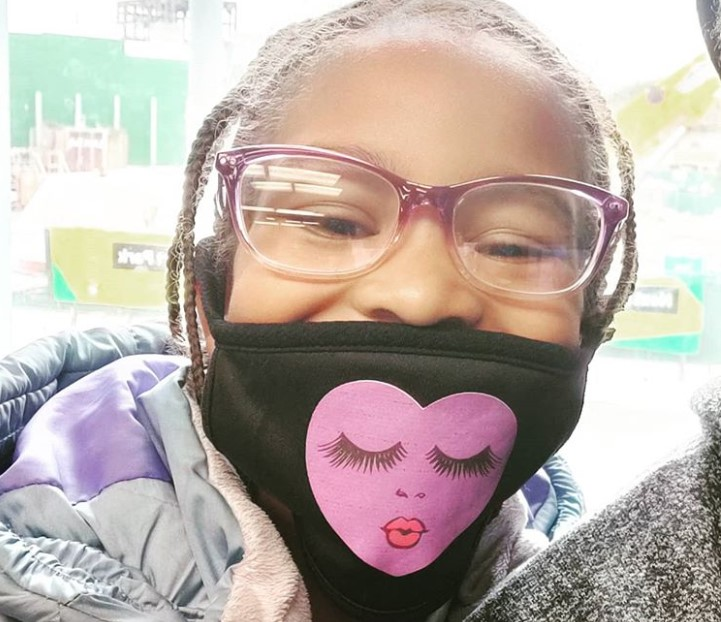face_with_mask: (171, 2, 636, 620)
